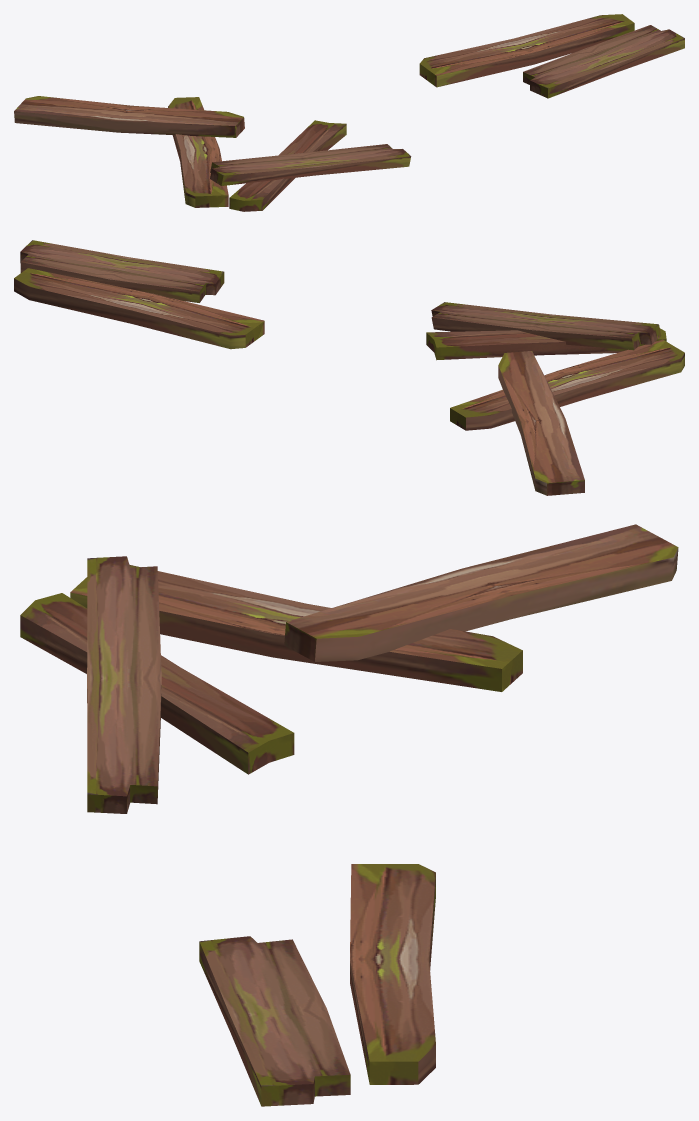
File: Map_05_wooden012.FBX
The picture shows the model from 3 angles, top to bottom: view 1: azimuth 30°, elevation 25°; view 2: azimuth 150°, elevation 25°; view 3: azimuth 270°, elevation 25°; orthographic projection. The views are drawn at different scales.
Parts seen in each view (by area): view 1: Map_05_wooden012; view 2: Map_05_wooden012; view 3: Map_05_wooden012.
Part boxes in pixels (left/top/right/bottom): Map_05_wooden012: left=14, top=14, right=684, bottom=211; Map_05_wooden012: left=14, top=240, right=684, bottom=495; Map_05_wooden012: left=20, top=524, right=678, bottom=1106.
Size of the model in its own units: 734 by 44.66 by 362.
